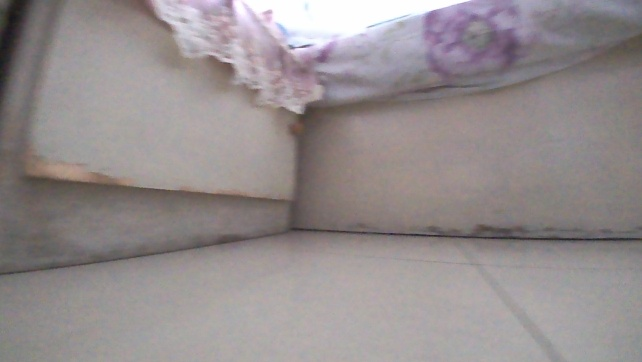bed1: (270, 0, 641, 243)
cabinet: (0, 0, 315, 273)
